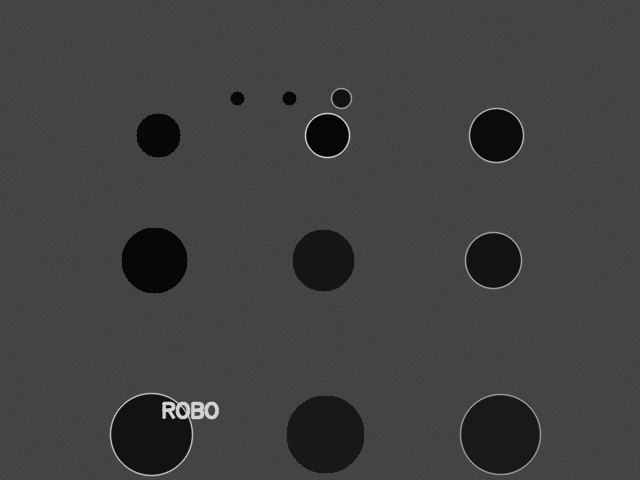hole: (110, 393, 192, 475), (460, 394, 540, 474), (286, 395, 364, 473), (121, 227, 187, 293), (292, 229, 354, 291), (465, 232, 521, 288), (469, 108, 523, 162), (136, 113, 180, 157), (305, 113, 349, 157), (331, 88, 351, 108), (230, 91, 244, 105), (282, 91, 296, 105)
